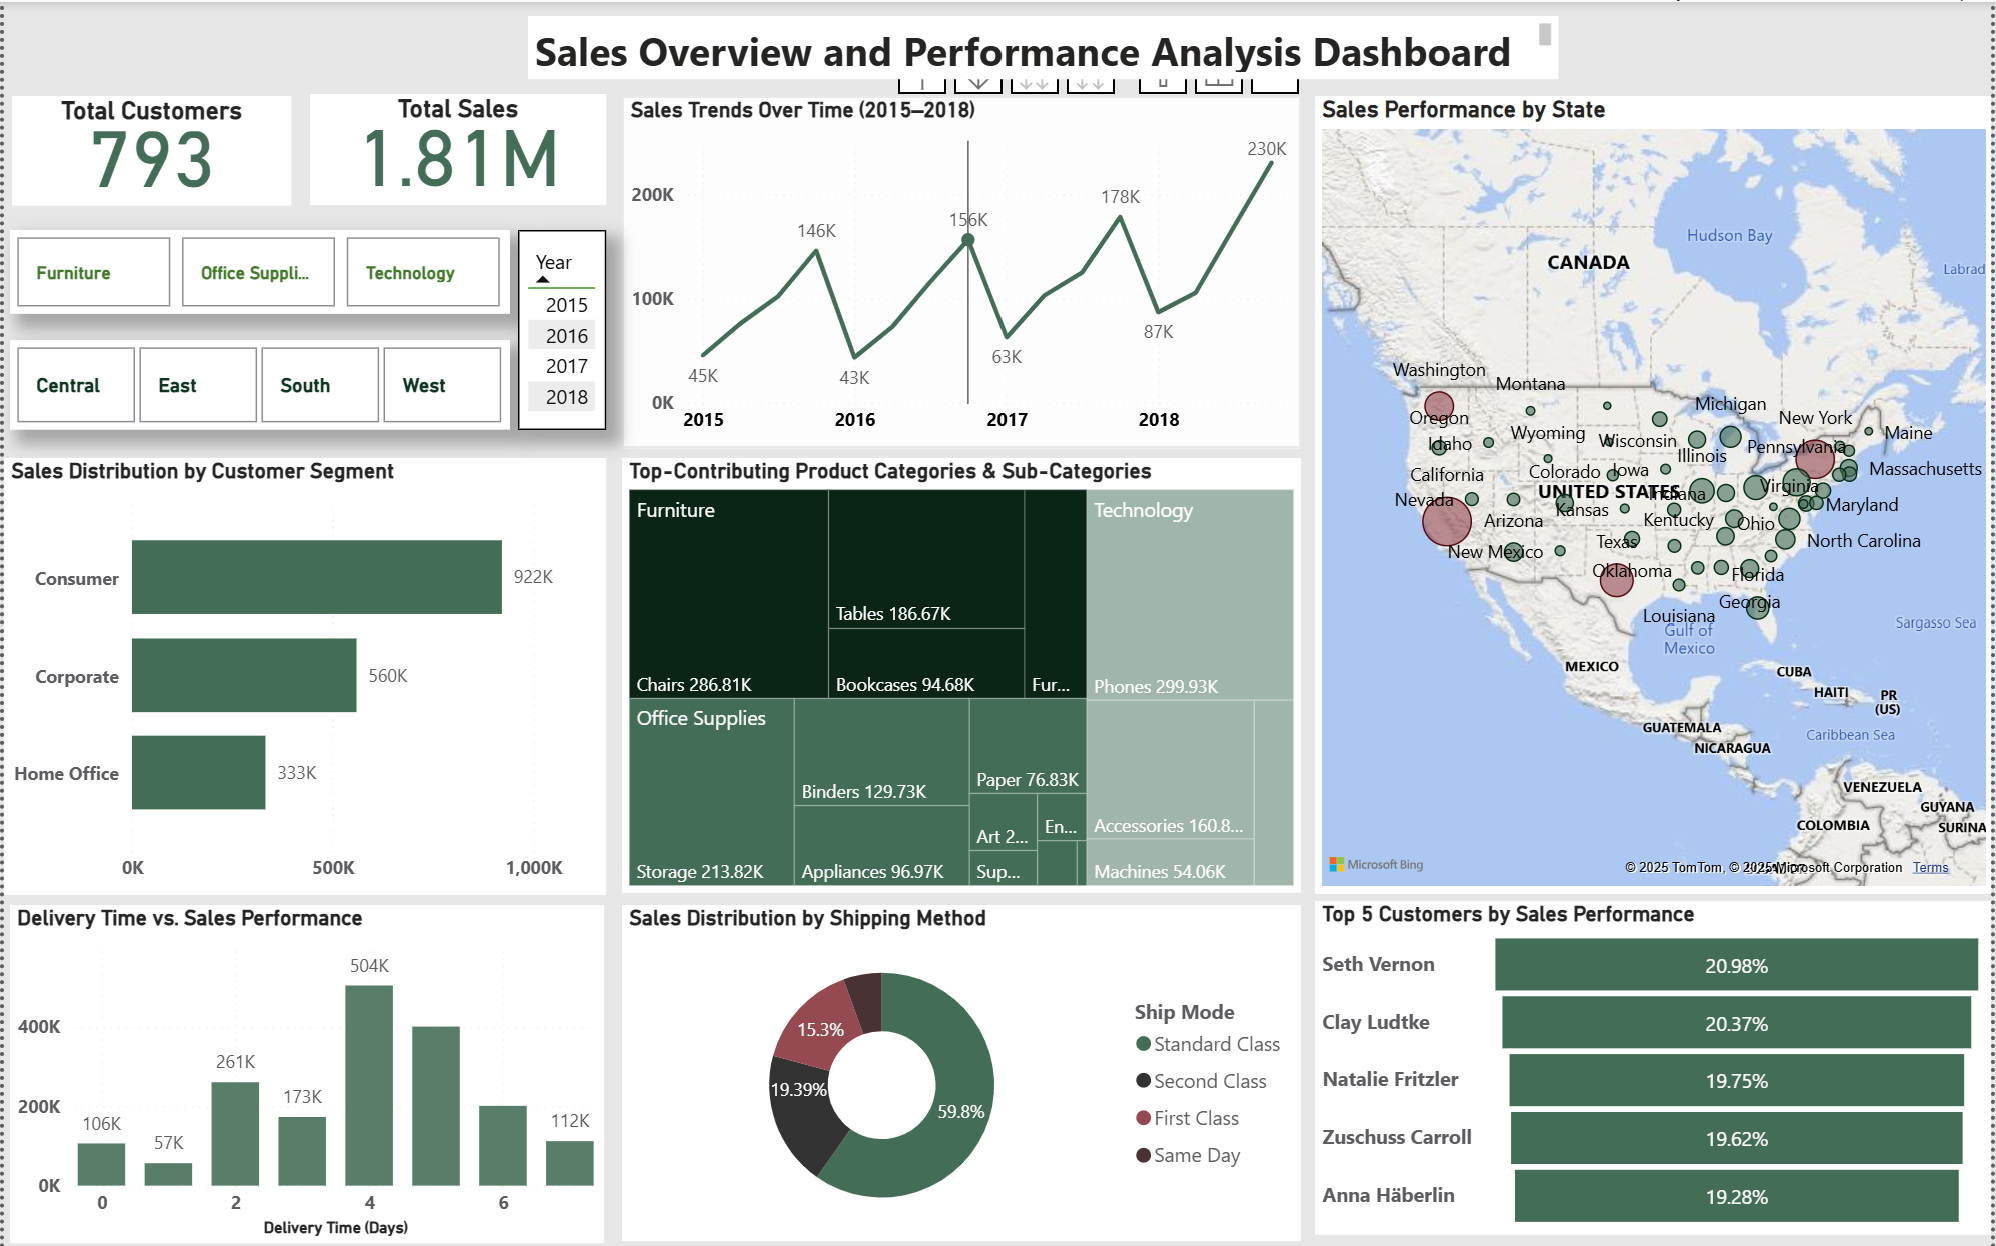

This screenshot's page, from the dashboard's own definition file:
{"tool":"powerbi","page":{"name":"Sales and Delivery Performance Analysis","canvas":[1350,850],"ordinal":0},"visuals":[{"type":"treemap","title":"Top-Contributing Product Categories & Sub-Categories","fields":{"Group":["sales 1.Category"],"Details":["sales 1.Sub-Category"],"Values":["Sum(percentage contribution.Sales)"]},"box":[420.2,310.1,461,295.1],"z":0},{"type":"advancedSlicerVisual","fields":{"Values":["Sales.Region"]},"box":[4.1,229.8,340,61.2],"z":1000},{"type":"donutChart","title":"Sales Distribution by Shipping Method","fields":{"Category":["Sales.Ship Mode"],"Y":["CountNonNull(Sales.Sales)"]},"box":[420.2,613.4,461,228.5],"z":2000},{"type":"lineChart","title":"Sales Trends Over Time (2015–2018)","fields":{"Y":["Sum(Sales.Sales)"],"Category":["Sales.Order Date.Variation.Date Hierarchy.Year","Sales.Order Date.Variation.Date Hierarchy.Quarter"]},"box":[420.2,63.9,461,239.4],"z":3000},{"type":"advancedSlicerVisual","fields":{"Values":["Sales.Category"]},"box":[4.3,155.7,340,57.1],"z":4000},{"type":"barChart","title":"Sales Distribution by Customer Segment","fields":{"Category":["Sales.Segment"],"Y":["Sum(Sales.Sales)"]},"box":[0,310.1,409.4,296.5],"z":5000},{"type":"funnel","title":"Top 5 Customers by Sales Performance","fields":{"Category":["Sales.Customer Name"],"Y":["Sum(Sales.Sales)"]},"box":[890.8,610.6,461,227.1],"z":6000},{"type":"columnChart","title":"Delivery Time vs. Sales Performance","fields":{"Category":["Sales.Delivery Time (Days)"],"Y":["Sum(Sales.Sales)"]},"box":[4.1,613.4,403.9,229.8],"z":7000},{"type":"card","title":"Total Customers","fields":{"Values":["Count(Sales.Customer ID)"]},"box":[5.7,64.3,190,74.3],"z":8000},{"type":"textbox","box":[355.7,10,700,42.9],"z":9000},{"type":"map","title":"Sales Performance by State","fields":{"Category":["Sales.State"],"Size":["Sum(Sales.Sales)"]},"box":[890.8,63.9,461,541.3],"z":10000},{"type":"tableEx","fields":{"Values":["Sales.Order Date.Variation.Date Hierarchy.Year"]},"box":[349.5,155,59.8,136],"z":11000},{"type":"card","title":"Total Sales","fields":{"Values":["Sum(Sales.Sales)"]},"box":[208.6,62.9,201.4,75.7],"z":12000}]}

Visuals, with their boxes in screenshot pixels (x1, y1, x2, y2), scaled from the page's 1350x850 canvas onto the 1996x1246 screenshot:
"Top-Contributing Product Categories & Sub-Categories" treemap: (x1=621, y1=455, x2=1303, y2=887)
advancedSlicerVisual - Sales.Region: (x1=6, y1=337, x2=509, y2=427)
"Sales Distribution by Shipping Method" donutChart: (x1=621, y1=899, x2=1303, y2=1234)
"Sales Trends Over Time (2015–2018)" lineChart: (x1=621, y1=94, x2=1303, y2=445)
advancedSlicerVisual - Sales.Category: (x1=6, y1=228, x2=509, y2=312)
"Sales Distribution by Customer Segment" barChart: (x1=0, y1=455, x2=605, y2=889)
"Top 5 Customers by Sales Performance" funnel: (x1=1317, y1=895, x2=1995, y2=1228)
"Delivery Time vs. Sales Performance" columnChart: (x1=6, y1=899, x2=603, y2=1236)
"Total Customers" card: (x1=8, y1=94, x2=289, y2=203)
textbox: (x1=526, y1=15, x2=1561, y2=78)
"Sales Performance by State" map: (x1=1317, y1=94, x2=1995, y2=887)
tableEx - Sales.Order Date.Variation.Date Hierarchy.Year: (x1=517, y1=227, x2=605, y2=427)
"Total Sales" card: (x1=308, y1=92, x2=606, y2=203)
